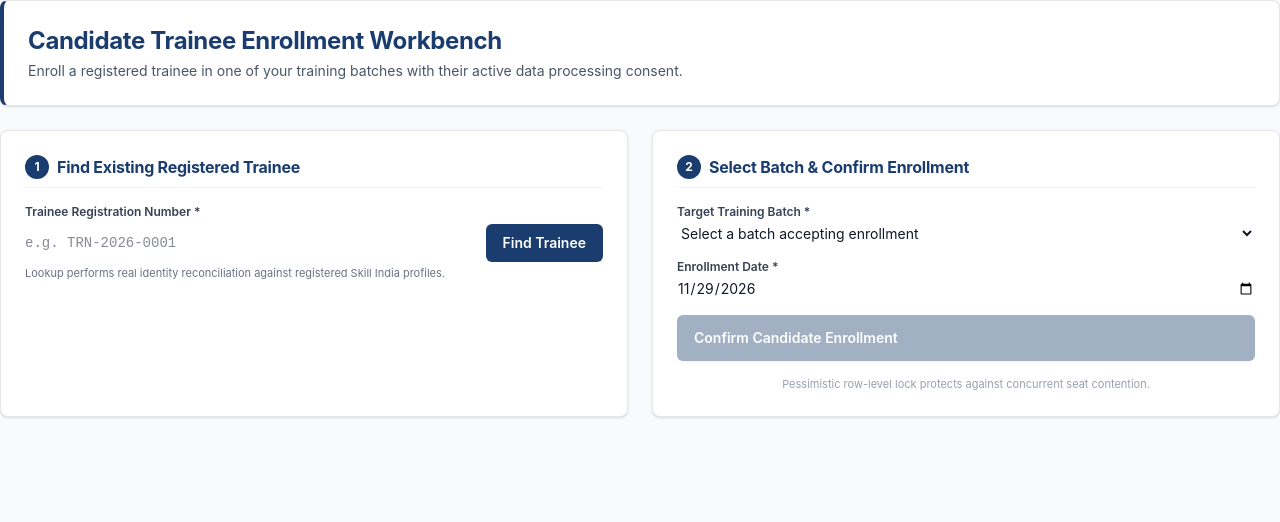
Training Provider Portal Frontend Components › ProviderEnrollmentPage › searches trainee by registration number and displays candidate card with DPDP badge
Expected: the text "Candidate Trainee Enrollment Workbench" is shown, [28,25,502,57]
Type "TRN-2026-9999" into the field with placeholder "e.g. TRN-2026-0001" at (251, 243), box [25,224,478,262]
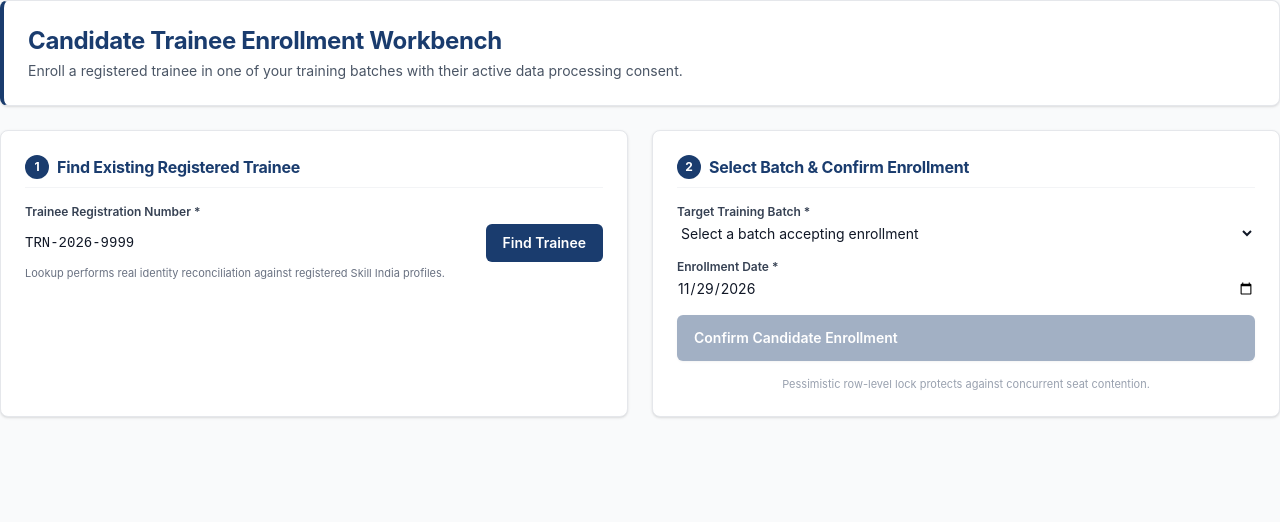
Click the button "Find Trainee" at (544, 243), box [486,224,603,262]
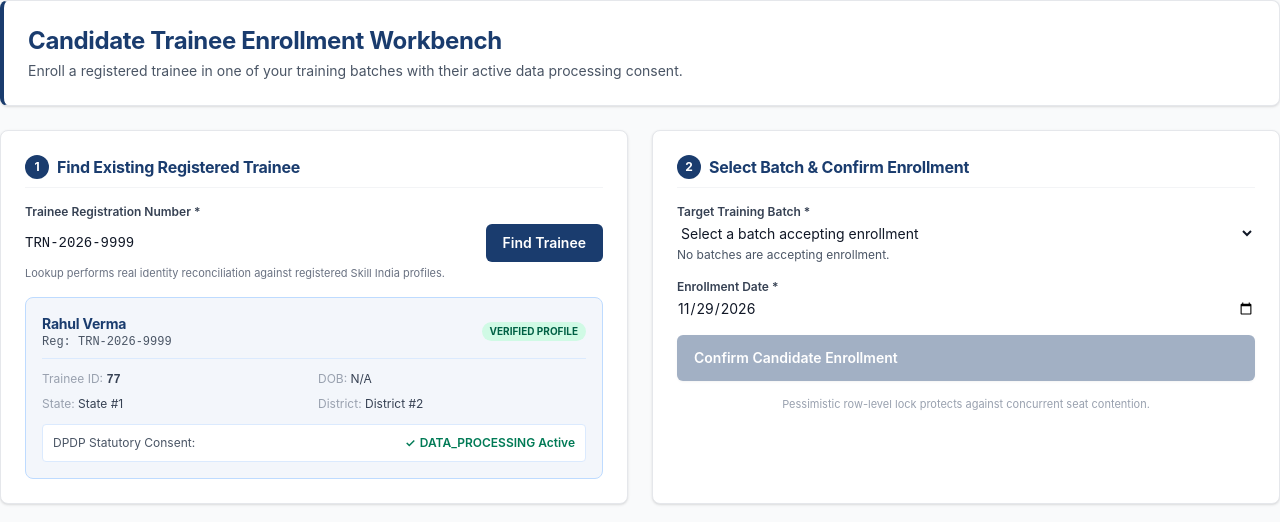
Result: the text "VERIFIED PROFILE" is shown at [482,322,586,341]
Result: the text "Reg: TRN-2026-9999" is shown at [42,334,172,350]
